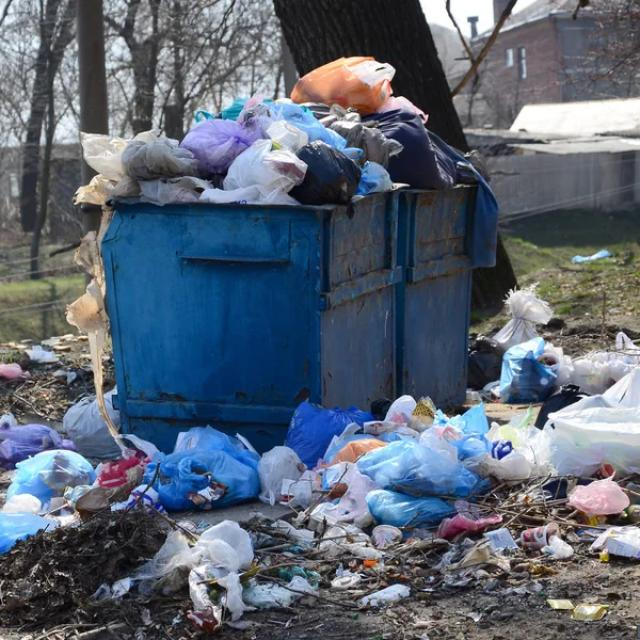garbage: (49, 399, 614, 638)
